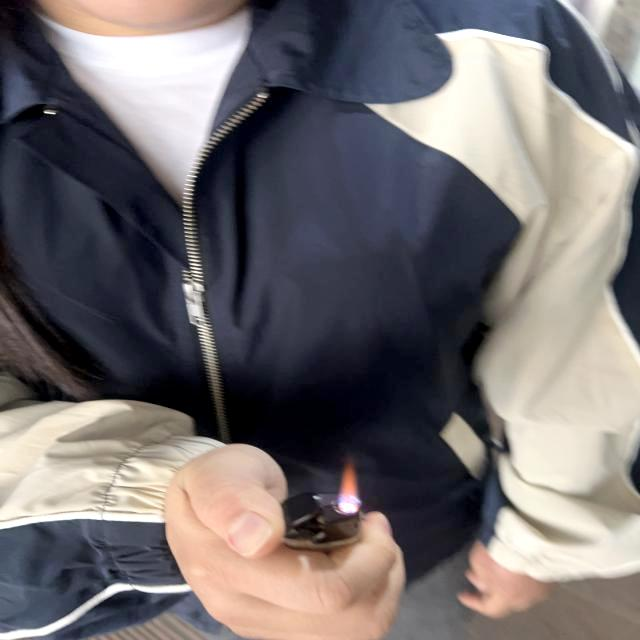fire: (335, 462, 363, 514)
